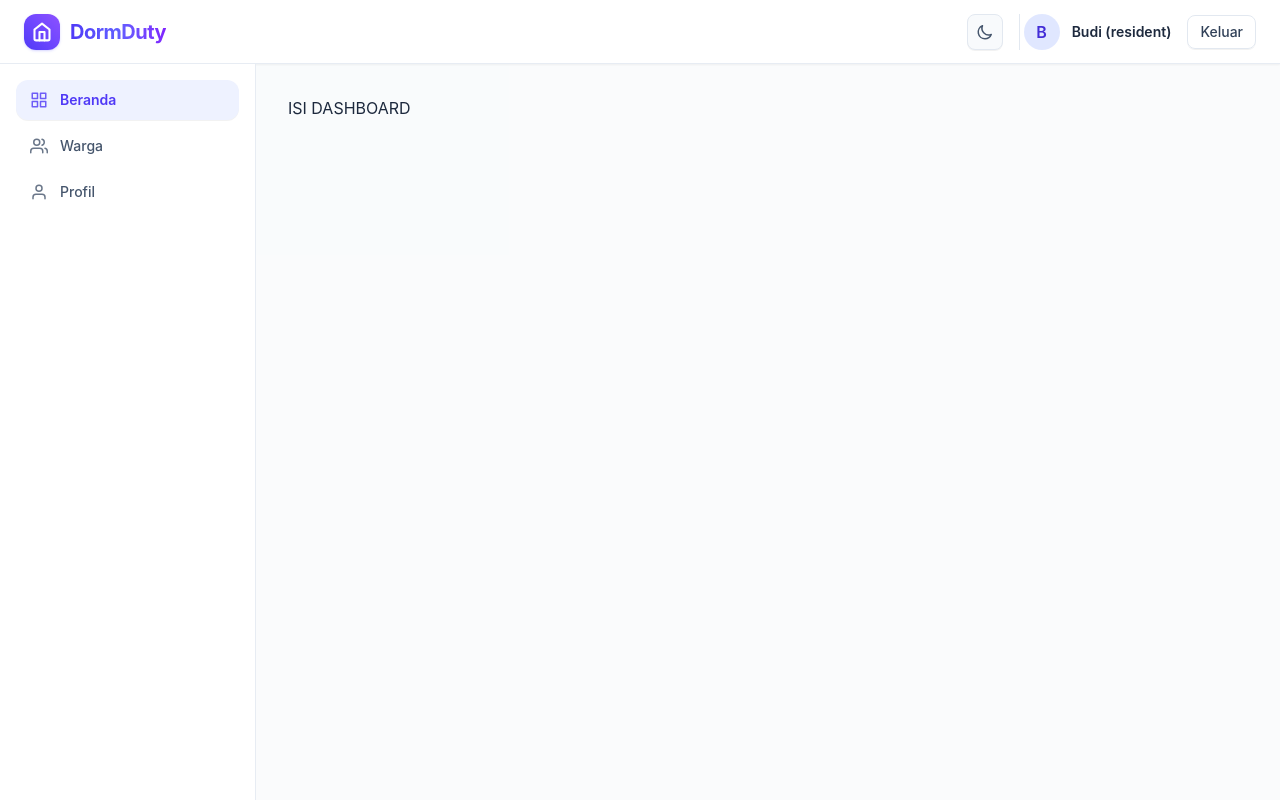
DutyLayout › menu navigasi berpindah halaman
Click the link "Warga": [66, 146] box top-left (30, 137), bottom-right (103, 155)
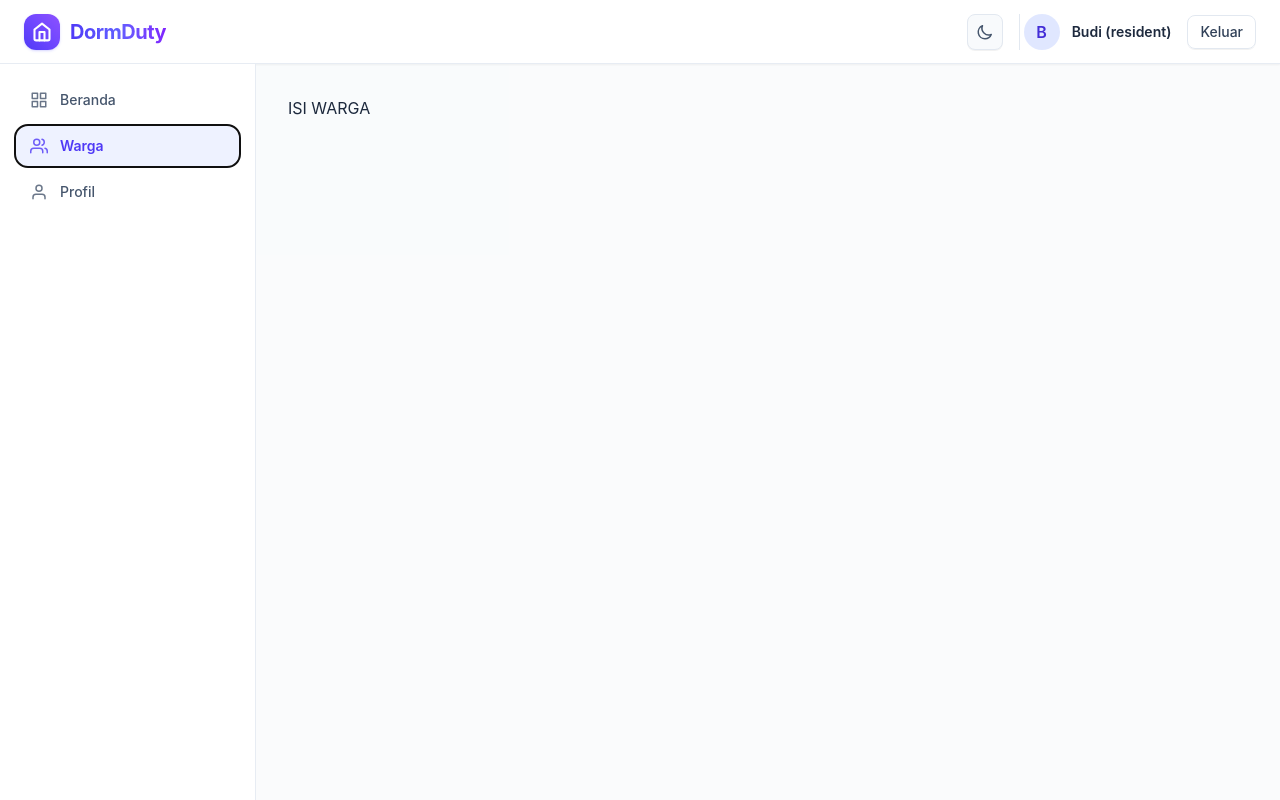
Check: the text "ISI WARGA" is shown, box top-left (288, 98), bottom-right (370, 118)
Click the link "Profil": [62, 192] box top-left (30, 183), bottom-right (95, 201)
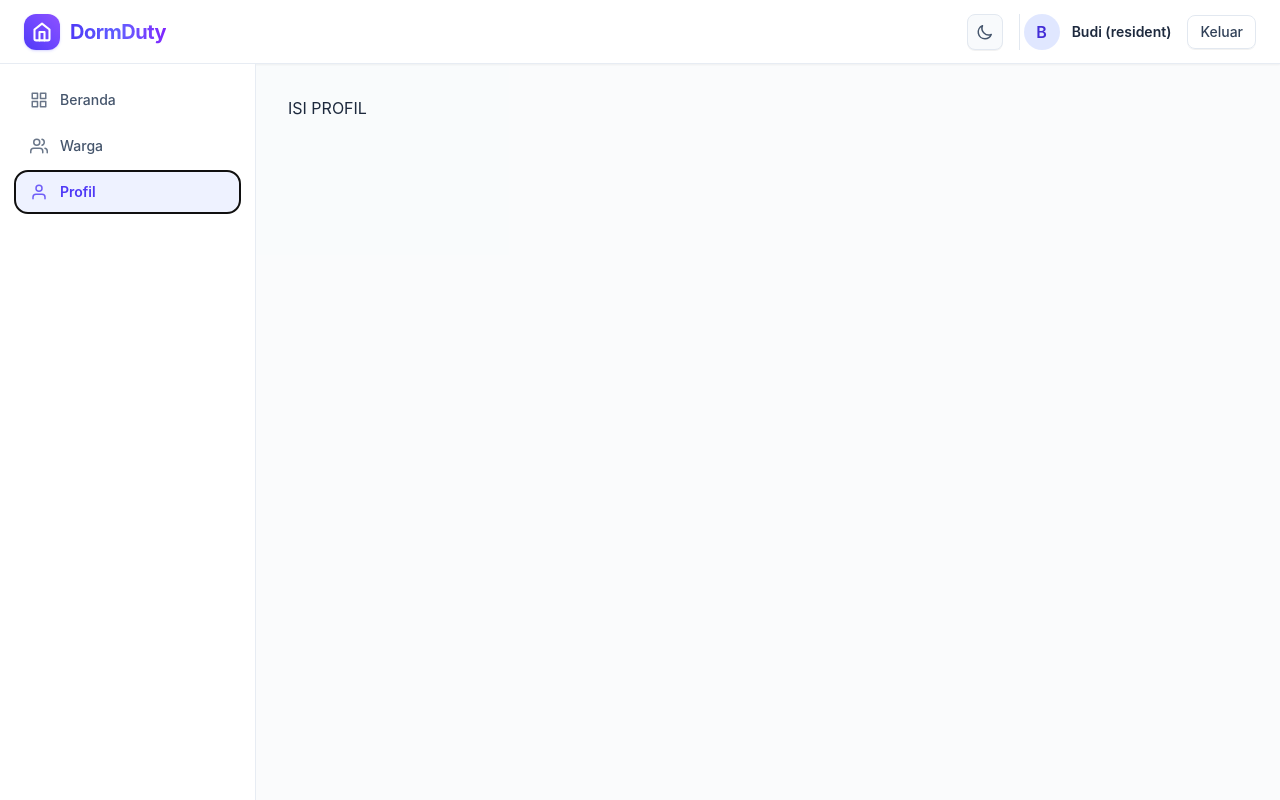
Check: the text "ISI PROFIL" is shown, box top-left (288, 98), bottom-right (367, 118)
Click the link "Beranda": [73, 100] box top-left (30, 91), bottom-right (116, 109)
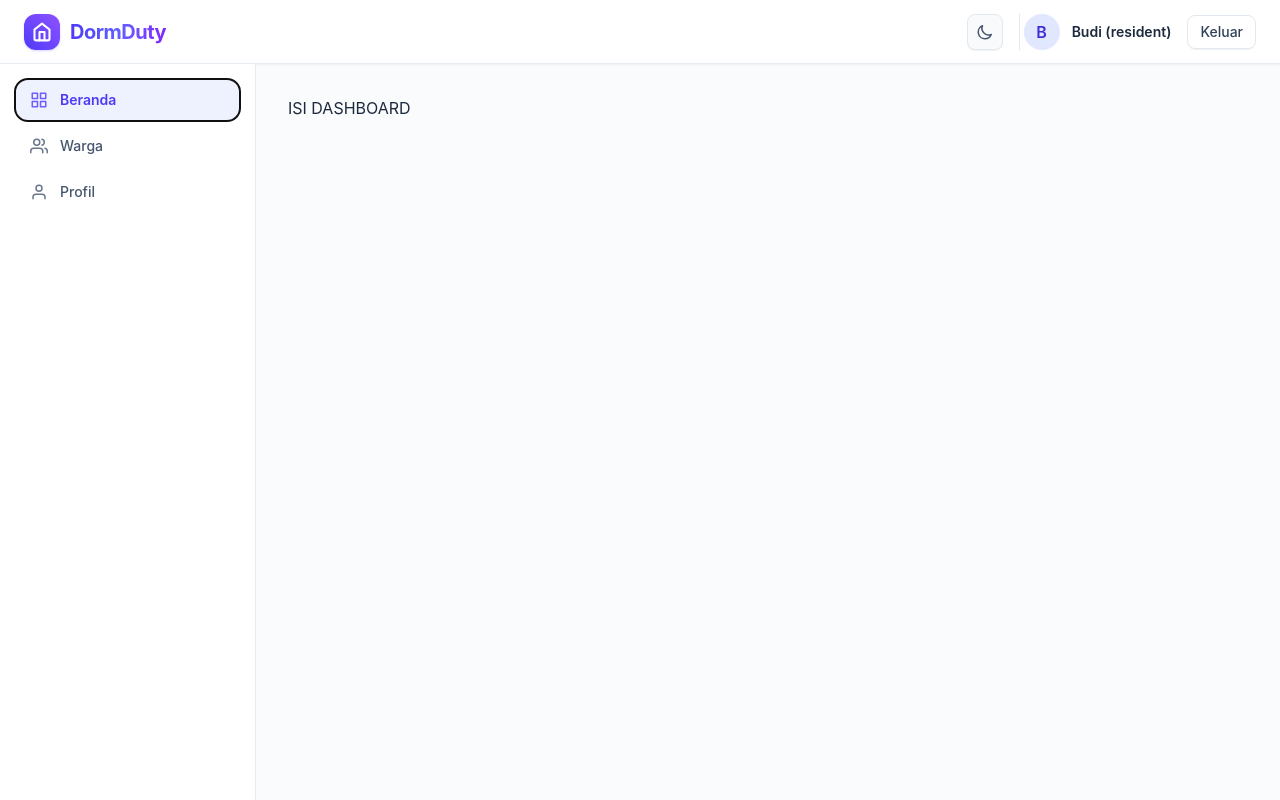
Check: the text "ISI DASHBOARD" is shown, box top-left (288, 98), bottom-right (411, 118)
